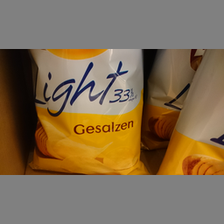chips: (28, 49, 146, 173)
